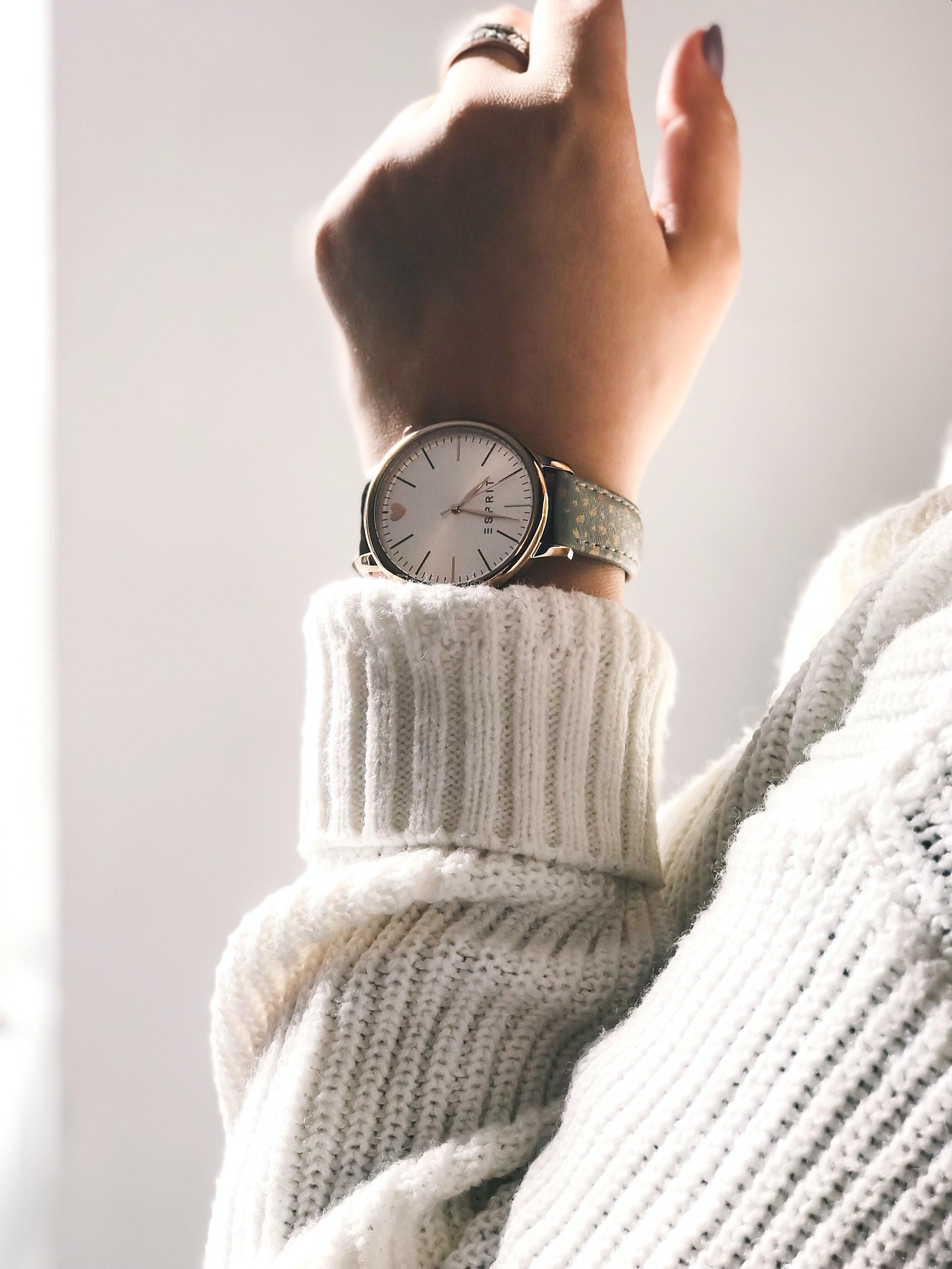watch: (346, 411, 665, 630)
